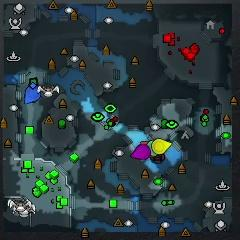p1: (24, 84, 41, 104)
p2: (147, 140, 155, 157)
p3: (131, 144, 151, 160)
p4: (152, 139, 172, 154)
p5: (140, 141, 149, 145)
